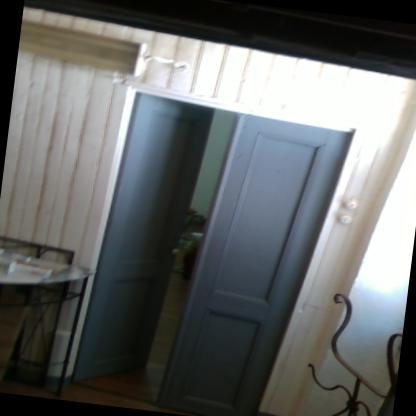semi: (69, 59, 369, 415)
